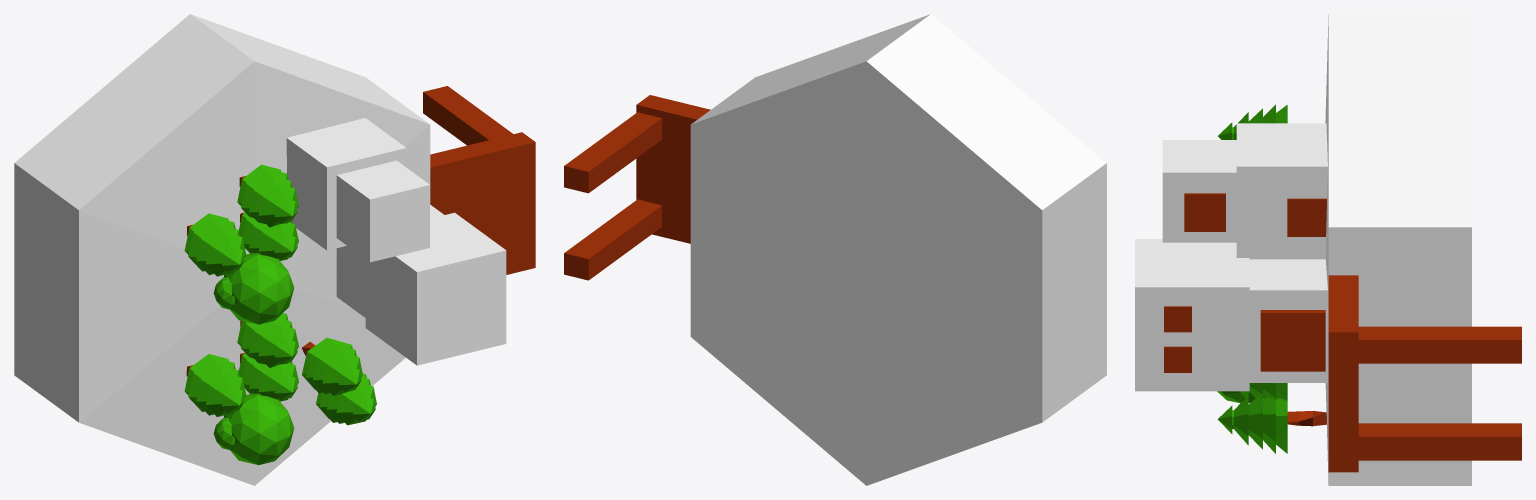
The model's file is low_polly_island_port.glb.
3 views of the same model, side by side, from view 1: azimuth 30°, elevation 25°; view 2: azimuth 150°, elevation 25°; view 3: azimuth 270°, elevation 25° (orthographic). The views are drawn at different scales.
Visible parts, largest first — view 1: Circle, Cube.009, Cube.005, Cube.008, Cube.006, Icosphere.004, Icosphere.001, Circle.001, Circle.012, Cube.022, Circle.003, Circle.008 (+5 smaller); view 2: Circle, Cube.005, Cube.022, Cube.023; view 3: Circle, Cube.009, Cube.006, Cube.023, Cube.022, Cube.008, Cube.005, Cube.004, Cube.020, Circle.009, Cube.018, Cube.019 (+5 smaller).
Part boxes in pixels (<box>): Circle: <box>14,14,430,485</box>; Cube.009: <box>365,212,506,365</box>; Cube.005: <box>430,132,535,274</box>; Cube.008: <box>336,160,429,262</box>; Cube.006: <box>286,118,406,250</box>; Icosphere.004: <box>213,393,294,465</box>; Icosphere.001: <box>213,253,294,324</box>; Circle.001: <box>184,213,246,276</box>; Circle.012: <box>184,354,246,416</box>; Cube.022: <box>423,86,513,145</box>; Circle.003: <box>237,164,298,227</box>; Circle.008: <box>302,337,362,395</box>; Circle: <box>690,14,1106,485</box>; Cube.005: <box>636,95,710,243</box>; Cube.022: <box>564,112,661,193</box>; Cube.023: <box>564,199,661,280</box>; Circle: <box>1325,14,1471,485</box>; Cube.009: <box>1135,239,1249,391</box>; Cube.006: <box>1236,123,1327,259</box>; Cube.023: <box>1358,423,1521,460</box>; Cube.022: <box>1358,326,1521,363</box>; Cube.008: <box>1162,140,1236,242</box>; Cube.005: <box>1328,275,1358,472</box>; Cube.004: <box>1249,259,1327,382</box>; Cube.020: <box>1260,310,1325,371</box>; Circle.009: <box>1217,396,1287,453</box>; Cube.018: <box>1184,193,1225,231</box>; Cube.019: <box>1287,198,1326,236</box>.
Bounding box in the file's own units: 31.84 × 28.28 × 21.01.
